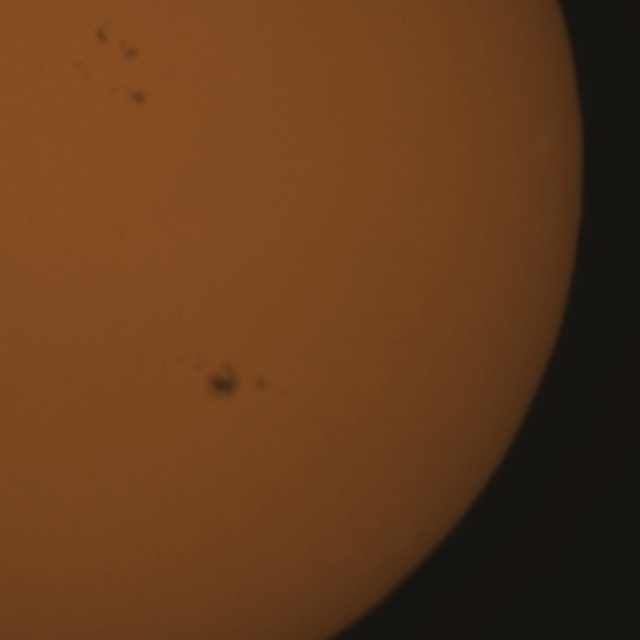sunspot: (210, 367, 271, 404), (92, 24, 140, 63), (207, 358, 238, 400), (119, 36, 140, 62), (128, 87, 148, 109), (251, 374, 268, 395), (94, 26, 110, 47), (192, 358, 204, 374)
